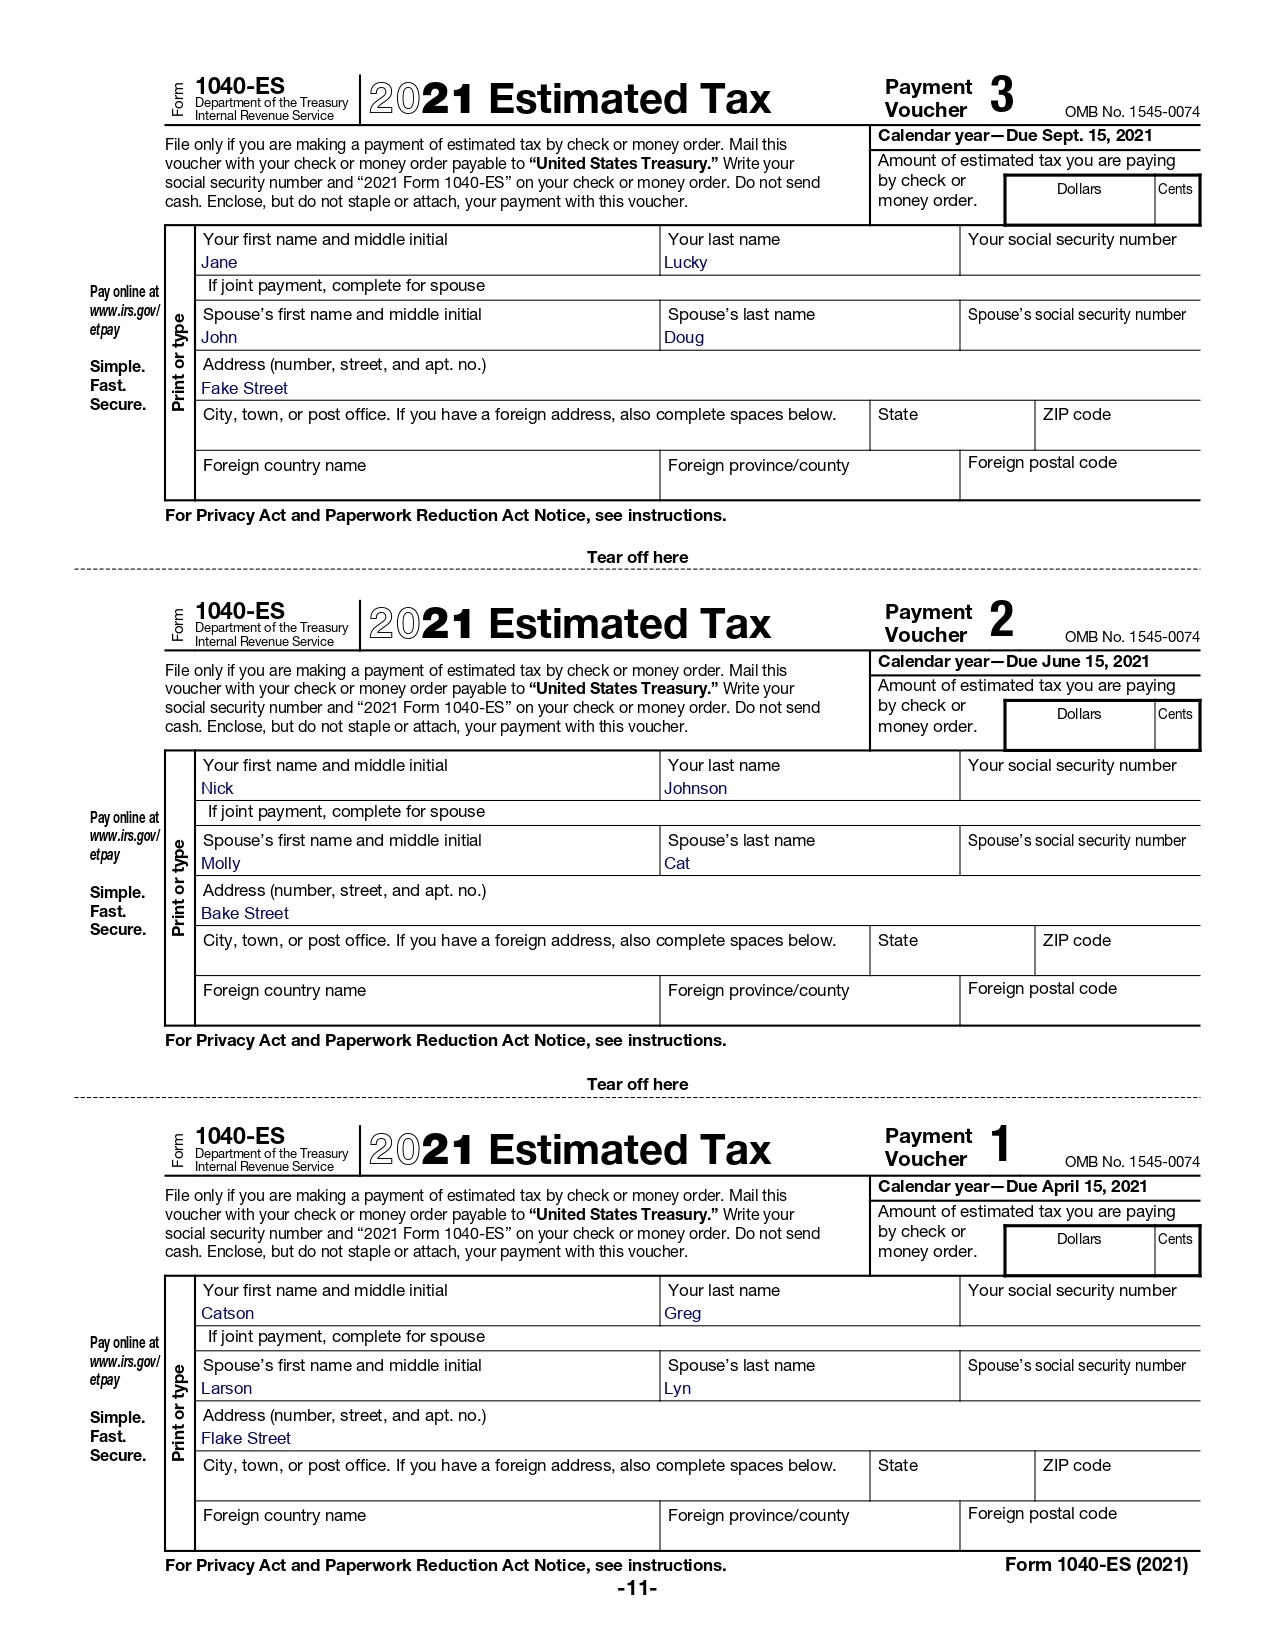form: (156, 59, 1222, 506), (162, 590, 1226, 1030), (158, 1115, 1215, 1551)
